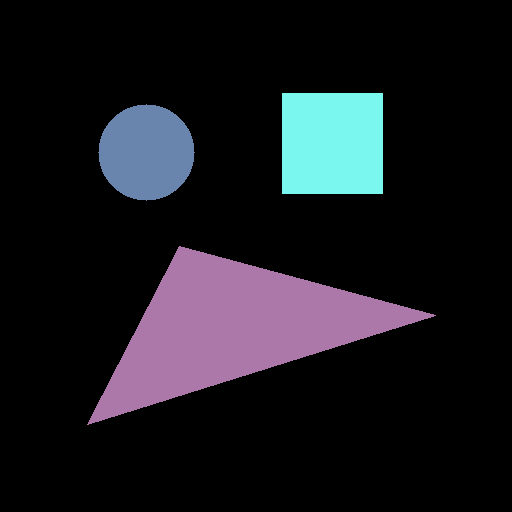circle: (98, 104, 194, 200)
square: (282, 93, 382, 193)
triangle: (87, 246, 435, 424)
